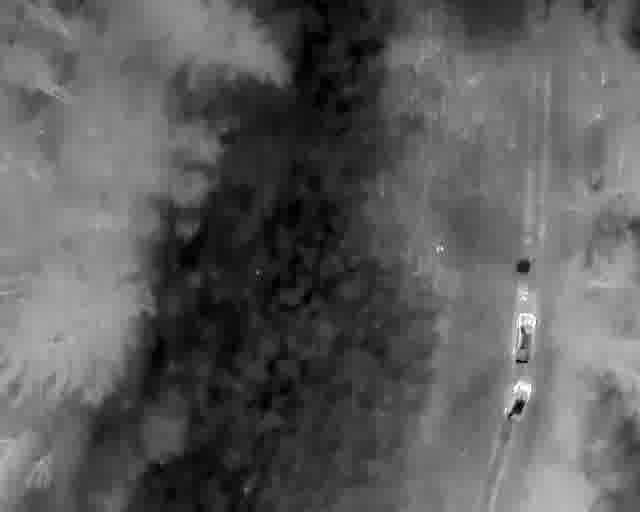car: (395, 393, 410, 415), (283, 167, 298, 188), (407, 422, 419, 446)
person: (395, 383, 401, 394), (392, 381, 396, 390), (308, 195, 312, 203), (310, 190, 314, 197), (306, 190, 309, 199), (302, 192, 305, 200)
